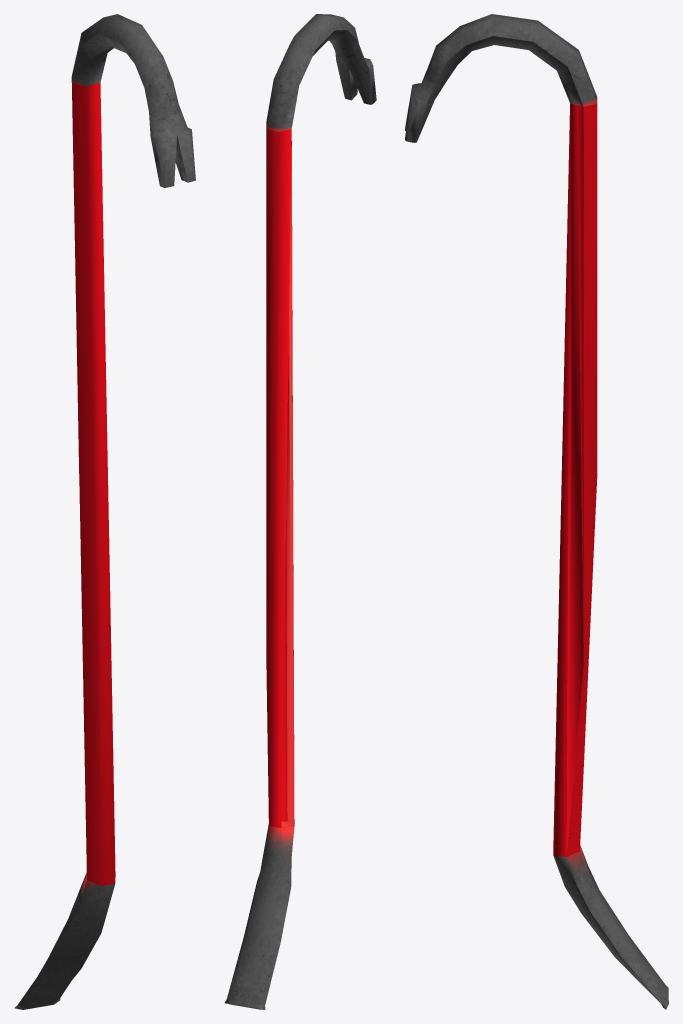
3 renders of one model, left to right at view 1: azimuth 30°, elevation 25°; view 2: azimuth 150°, elevation 25°; view 3: azimuth 270°, elevation 25°, orthographic. The views are drawn at different scales.
Visible parts, largest first — view 1: low; view 2: low; view 3: low.
Boxes of the visible parts, x1,y1,x2,y2 form: low: (14, 14, 195, 1009); low: (224, 14, 376, 1009); low: (405, 14, 668, 1009).
Size of the model in its own units: 5.82 by 117 by 28.4.
